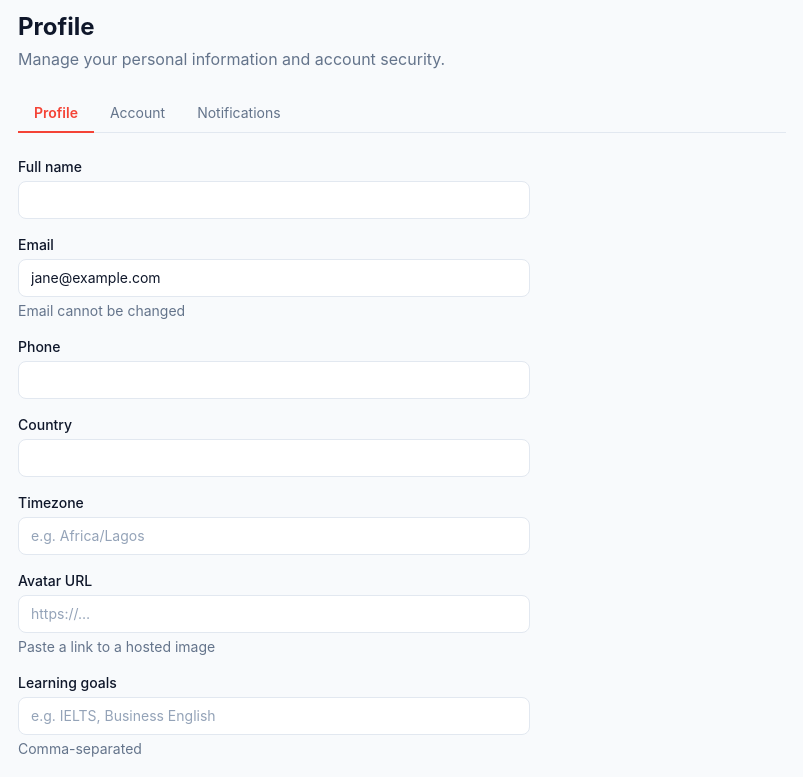
it: ProfilePage › Account tab blocks submission when the new passwords do not match
Click the tab "Account" at (138, 114), box [94, 95, 181, 133]
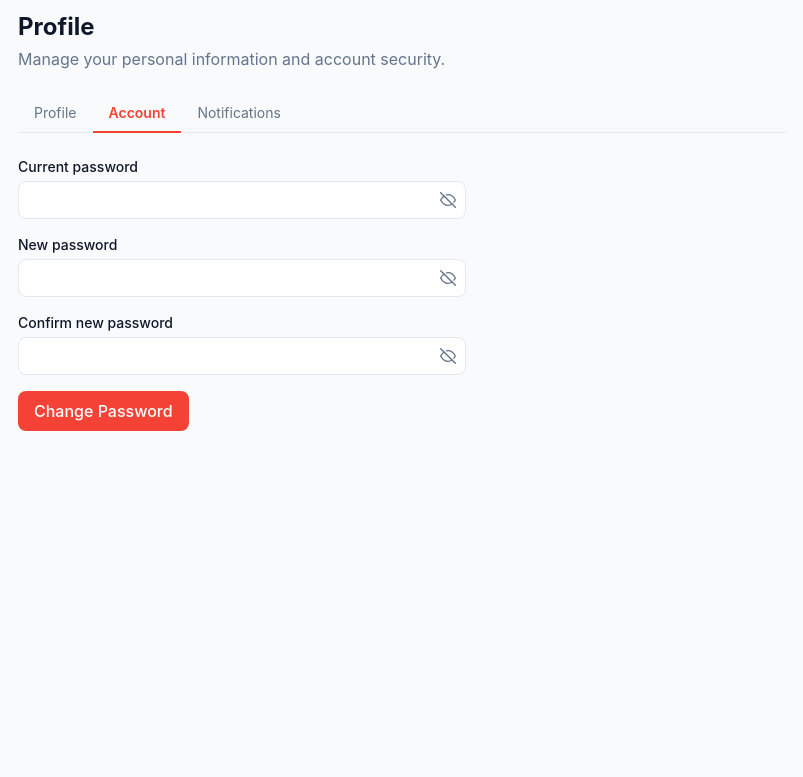
Type "oldPass1" into the password field labelled "Current password" at (242, 200), box [18, 181, 466, 219]
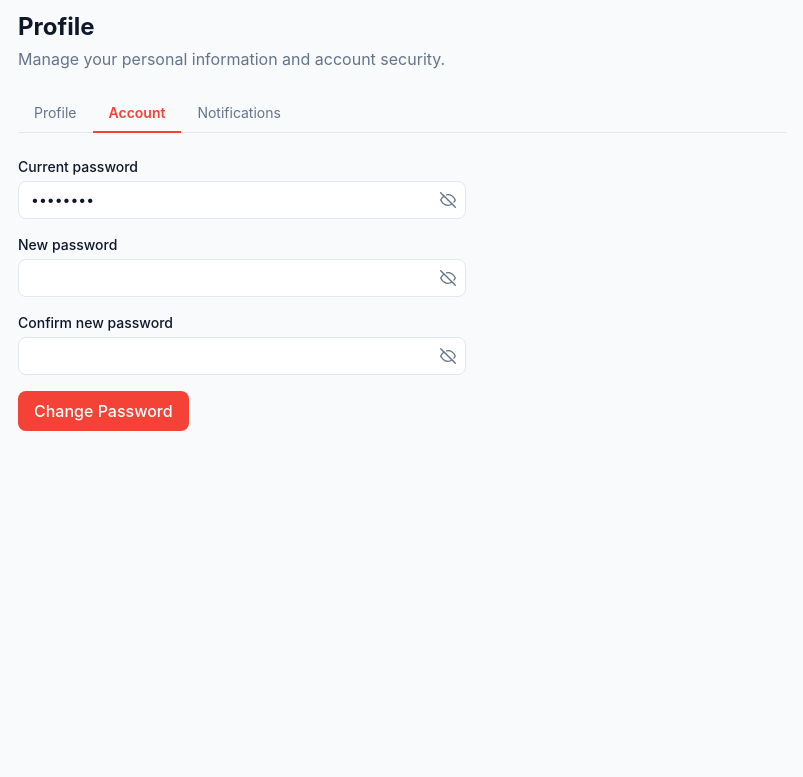
Type "NewPass1" into the password field labelled "New password" at (242, 278), box [18, 259, 466, 297]
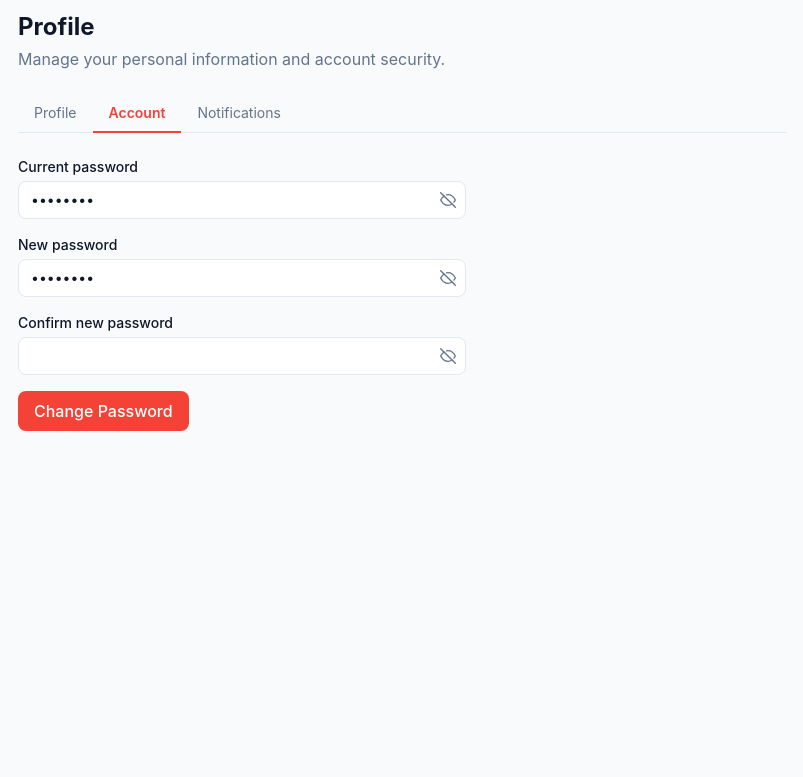
Type "Mismatch1" into the password field labelled "Confirm new password" at (242, 356), box [18, 337, 466, 375]
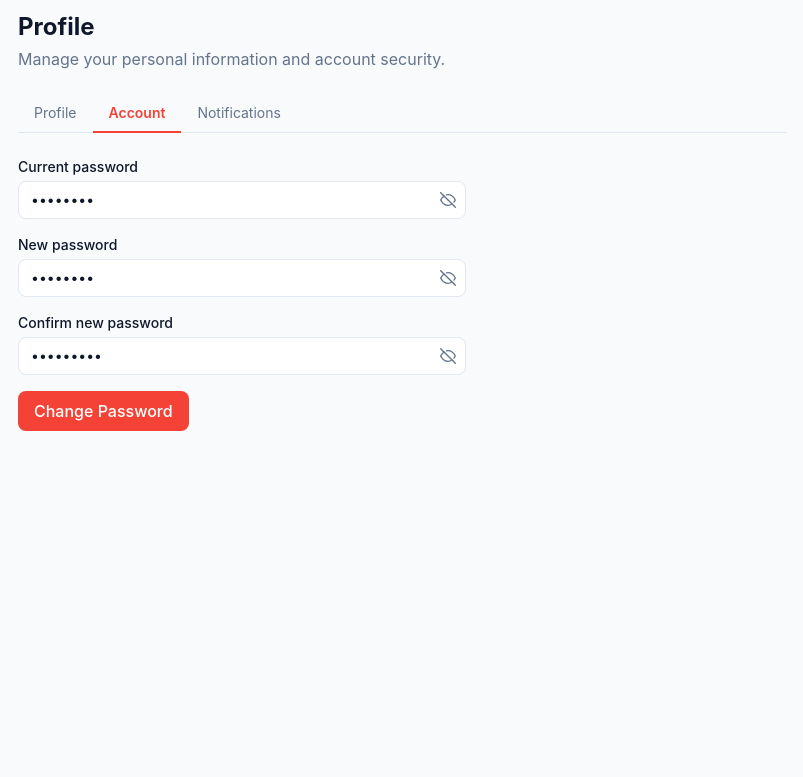
Click the button "Change Password" at (103, 411), box [18, 391, 189, 431]
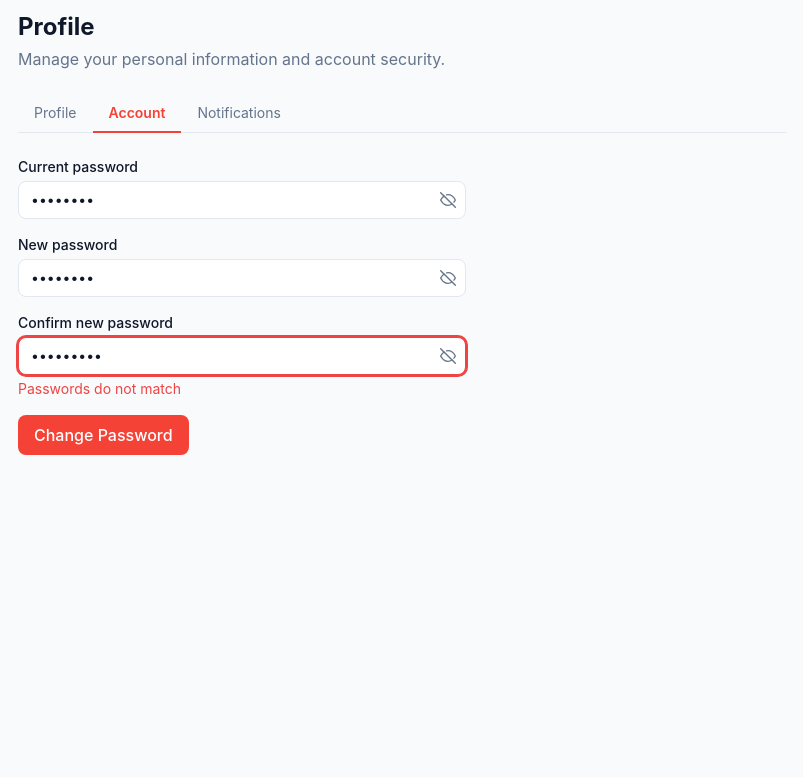
Now the text "Passwords do not match" is shown, box [18, 380, 181, 397]
